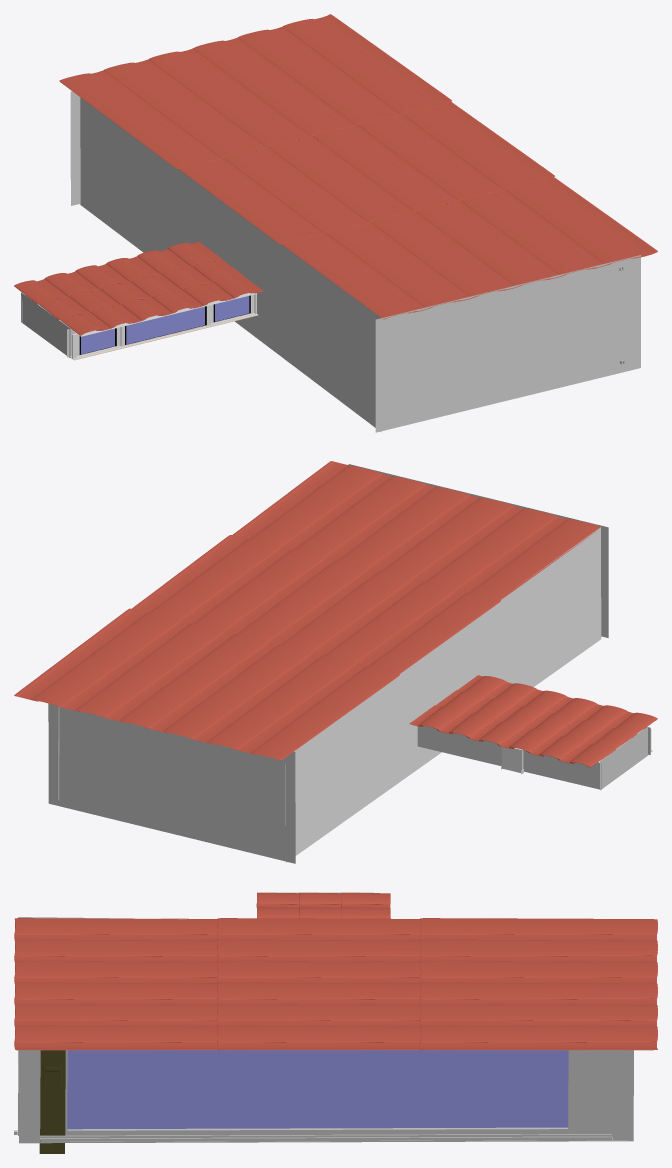
Rendered from Coastguard.fbx.
The picture shows the model from 3 angles, top to bottom: view 1: azimuth 30°, elevation 25°; view 2: azimuth 150°, elevation 25°; view 3: azimuth 270°, elevation 25°; orthographic projection. The views are drawn at different scales.
Visible parts, largest first — view 1: Coastguardhangarage-availiableRoof, Coastguardhangarage-availiable, Coastguardhangarage-availiableHangar.002, CoastguardlTerminal Roof, .lyddaeroWindow.003, CoastguardTerminal002.001, Coastguardhangarage-availiableHangar.004; view 2: Coastguardhangarage-availiableRoof, Coastguardhangarage-availiableHangar.002, Coastguardhangarage-availiableHangar.004, CoastguardlTerminal Roof, CoastguardTerminal002.003, CoastguardTerminal002.001, Coastguardhangarage-availiable; view 3: Coastguardhangarage-availiableRoof, Window.L, WindowFrame, CoastguardlTerminal Roof, Handle.
Boxes of the visible parts, x1=… form: Coastguardhangarage-availiableRoof: x1=59, y1=14, x2=657, y2=319; Coastguardhangarage-availiable: x1=375, y1=255, x2=640, y2=432; Coastguardhangarage-availiableHangar.002: x1=80, y1=97, x2=381, y2=431; CoastguardlTerminal Roof: x1=14, y1=241, x2=263, y2=335; .lyddaeroWindow.003: x1=70, y1=294, x2=258, y2=360; CoastguardTerminal002.001: x1=21, y1=292, x2=70, y2=357; Coastguardhangarage-availiableHangar.004: x1=70, y1=91, x2=80, y2=205; Coastguardhangarage-availiableRoof: x1=14, y1=461, x2=601, y2=760; Coastguardhangarage-availiableHangar.002: x1=285, y1=527, x2=601, y2=862; Coastguardhangarage-availiableHangar.004: x1=48, y1=703, x2=295, y2=863; CoastguardlTerminal Roof: x1=409, y1=675, x2=657, y2=767; CoastguardTerminal002.003: x1=417, y1=726, x2=601, y2=789; CoastguardTerminal002.001: x1=600, y1=726, x2=648, y2=790; Coastguardhangarage-availiable: x1=348, y1=464, x2=608, y2=637; Coastguardhangarage-availiableRoof: x1=14, y1=918, x2=657, y2=1050; Window.L: x1=14, y1=1038, x2=612, y2=1135; WindowFrame: x1=19, y1=1050, x2=633, y2=1143; CoastguardlTerminal Roof: x1=256, y1=892, x2=390, y2=918; Handle: x1=39, y1=1050, x2=65, y2=1153.
Bounding box in the file's own units: 3822 × 971 × 4714.
